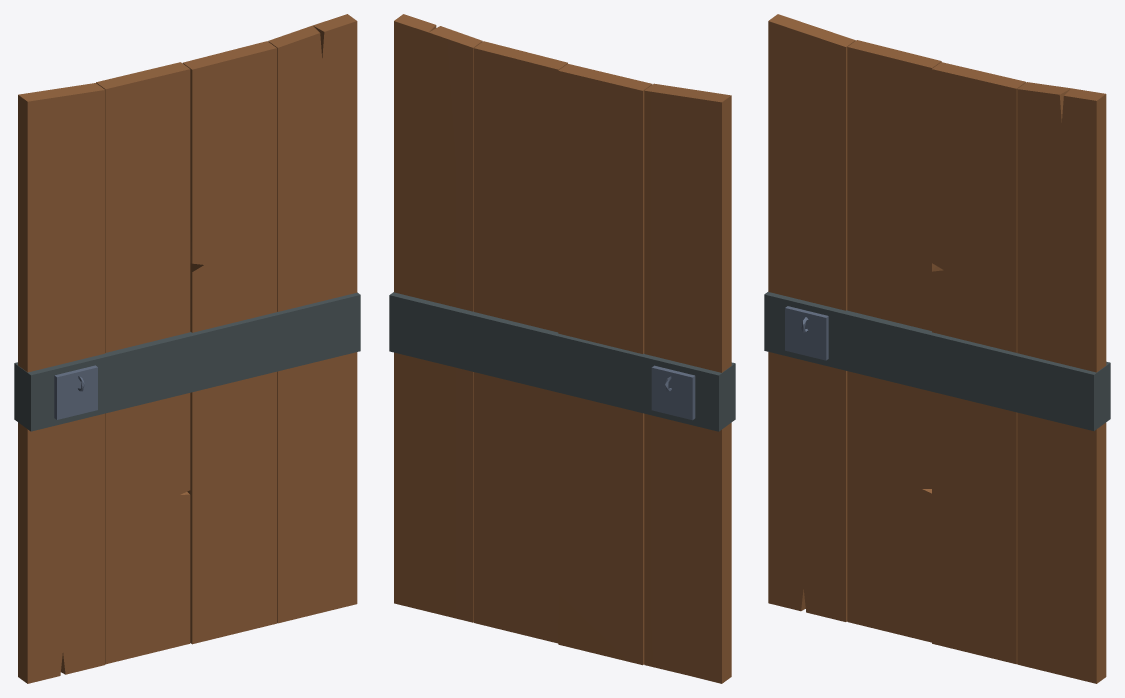
The model's file is Door1_02.fbx.
3 views of the same model, side by side, from view 1: azimuth 30°, elevation 25°; view 2: azimuth 150°, elevation 25°; view 3: azimuth 330°, elevation 25° (orthographic).
Parts seen in each view (by area): view 1: Door1_02; view 2: Door1_02; view 3: Door1_02.
Part boxes in pixels (left/top/right/bottom): Door1_02: left=14, top=14, right=360, bottom=683; Door1_02: left=389, top=14, right=735, bottom=683; Door1_02: left=764, top=14, right=1110, bottom=683.
Bounding box in the file's own units: 110 × 185 × 18.22.
